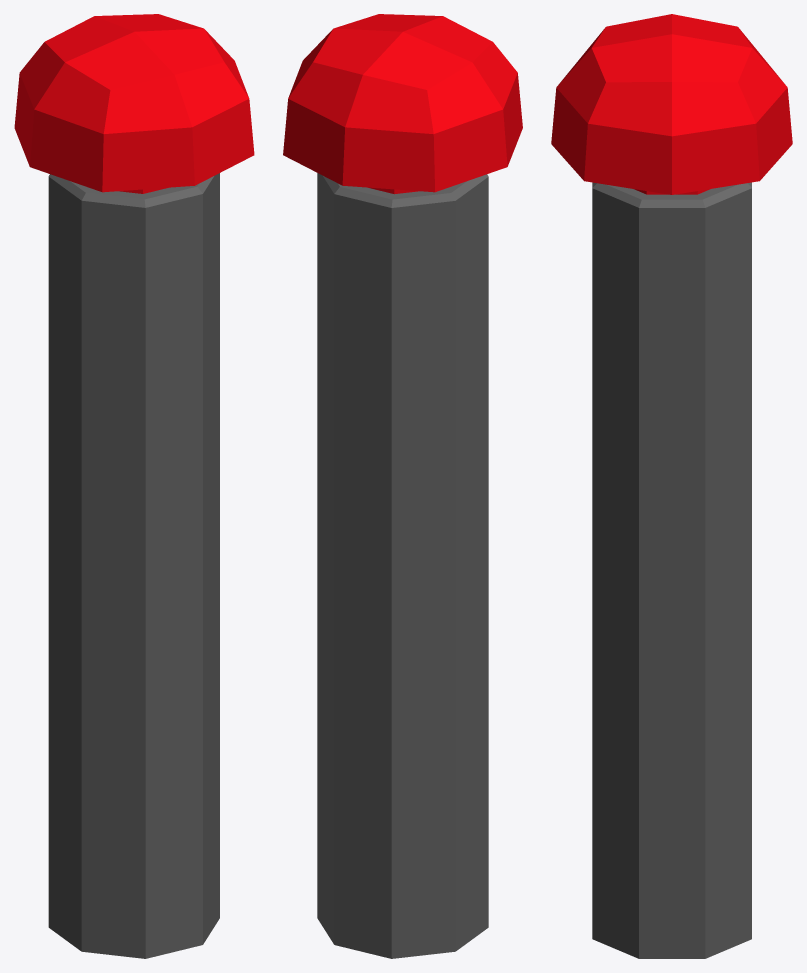
Rendered from CanGameButton.fbx.
3 renders of one model, left to right at view 1: azimuth 30°, elevation 25°; view 2: azimuth 150°, elevation 25°; view 3: azimuth 270°, elevation 25°, orthographic.
Visible parts, largest first — view 1: Holder, Button; view 2: Holder, Button; view 3: Holder, Button.
Part boxes in pixels (left/top/right/bottom): Holder: left=48, top=173, right=219, bottom=958; Button: left=14, top=14, right=254, bottom=193; Holder: left=317, top=173, right=488, bottom=958; Button: left=283, top=14, right=522, bottom=194; Holder: left=592, top=182, right=751, bottom=958; Button: left=551, top=14, right=792, bottom=194.
Size of the model in its own units: 21.65 by 88.09 by 21.65.
